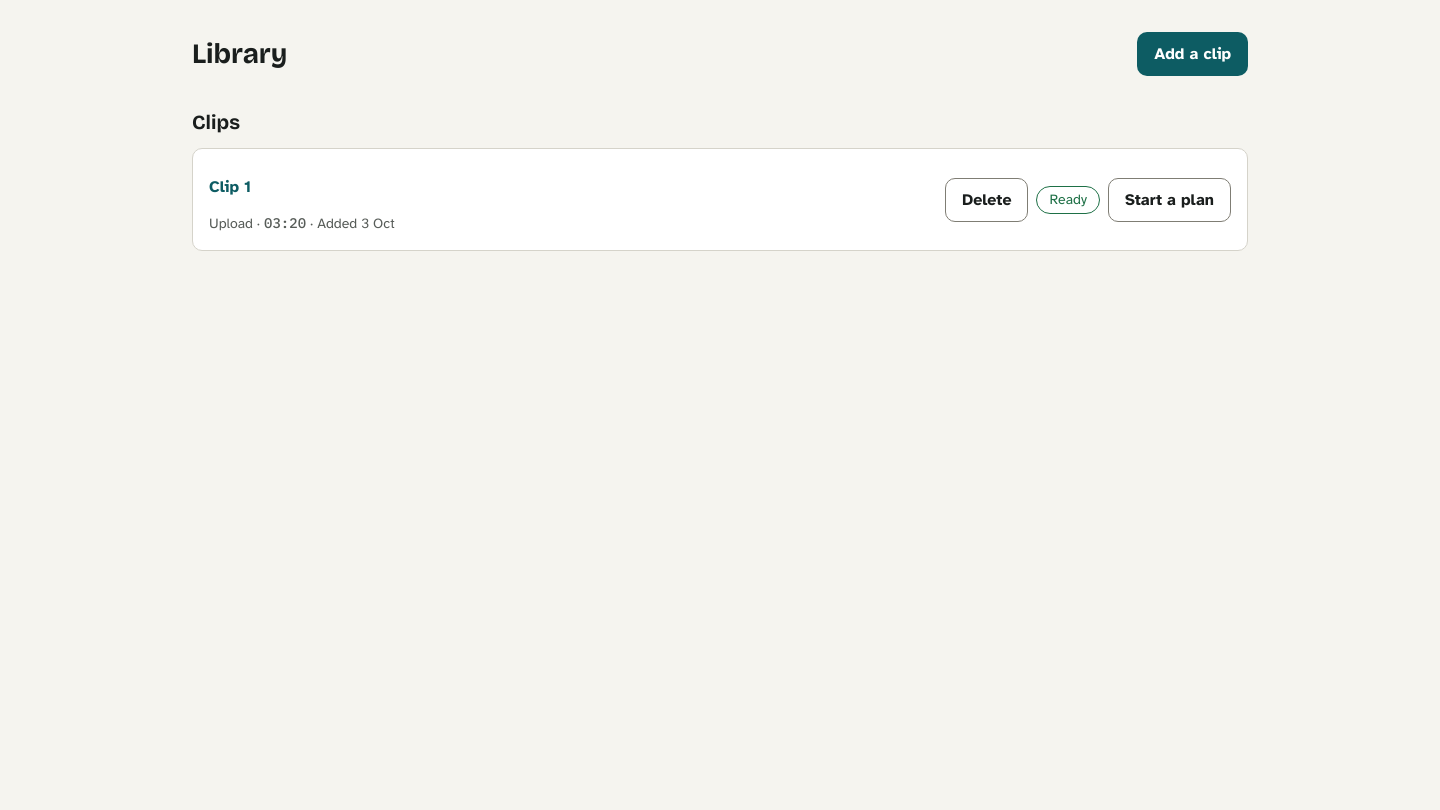
deleting a clip requires confirmation and cancel keeps the clip
This screenshot has width=1440, height=810.
Click the button with aria-label "Delete Clip 1": click(987, 200) [945, 178, 1028, 222]
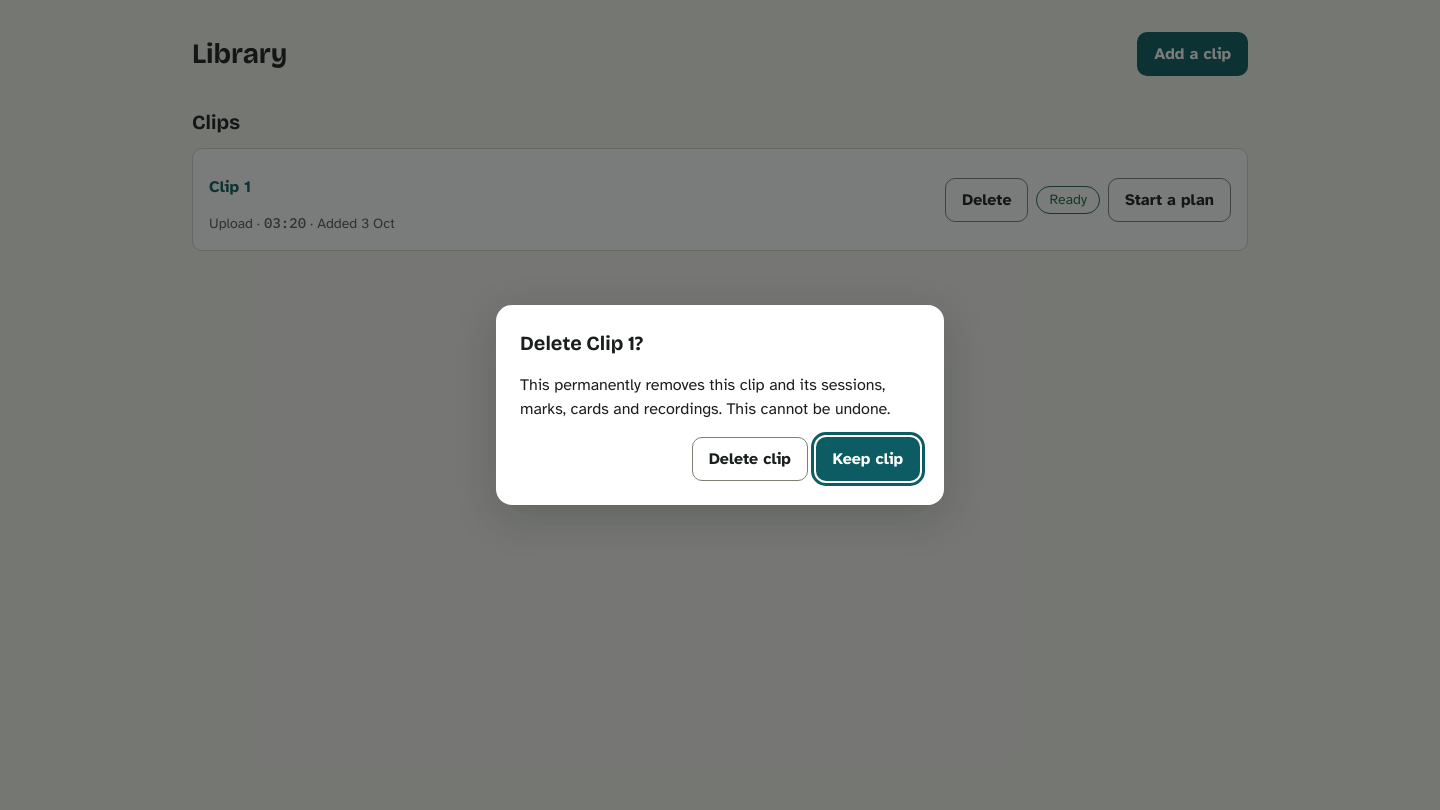
Now the dialog "Delete Clip 1?" shows "sessions, marks, cards and recordings", box [520, 375, 890, 419]
Press Escape in the dialog "Delete Clip 1?", box [496, 305, 944, 505]
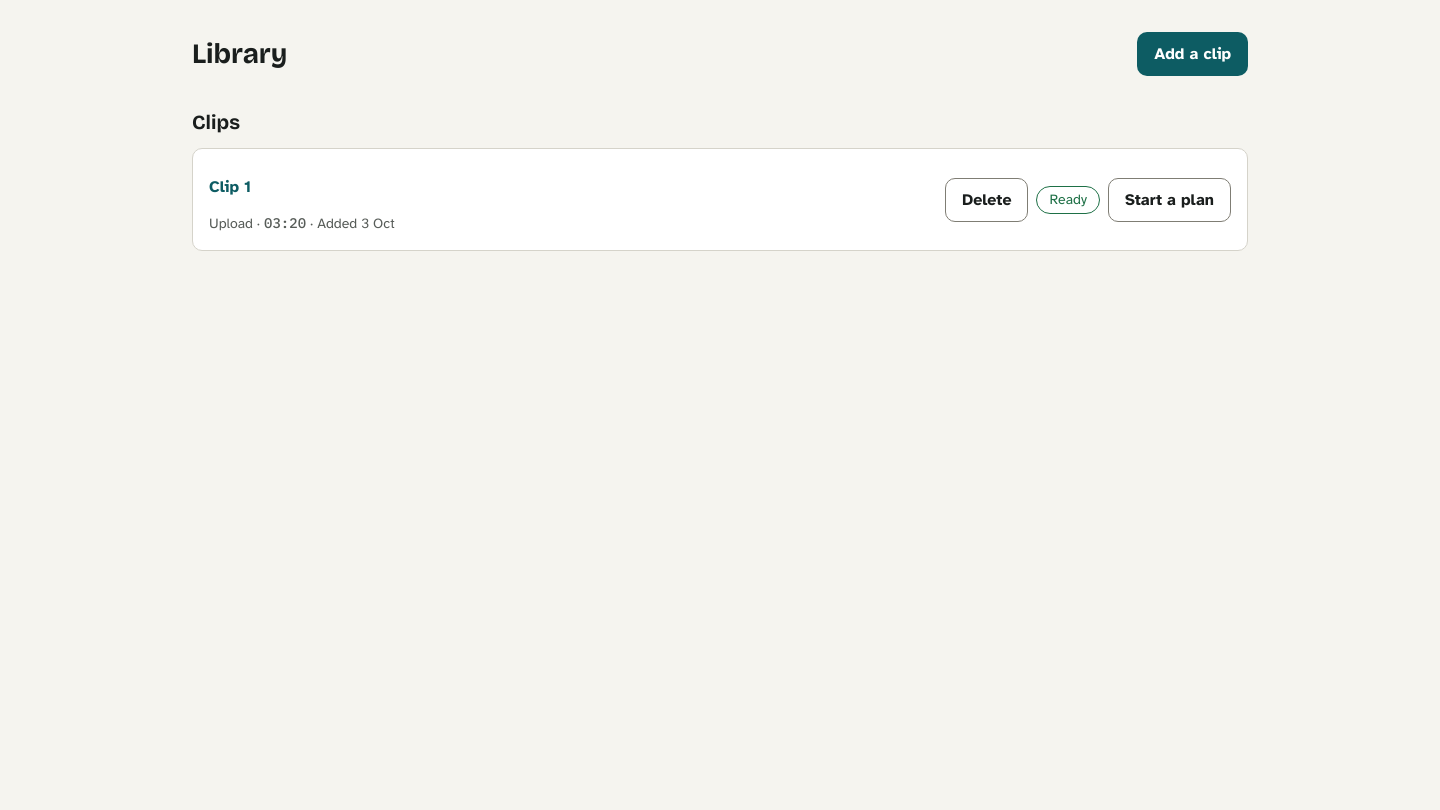
Expected: the link "Clip 1" is shown, [209, 177, 251, 197]
Now the dialog is gone
